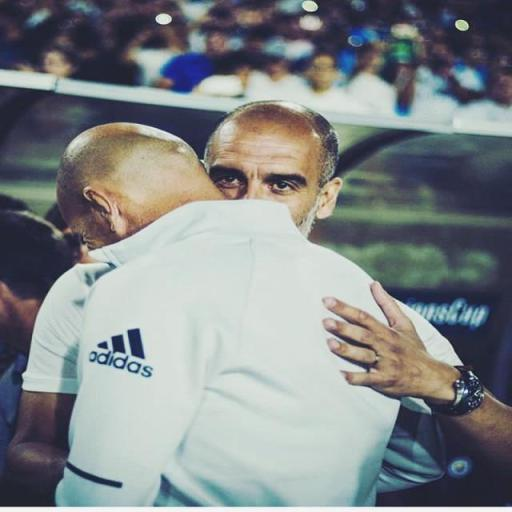Adidas: (86, 326, 155, 380)
